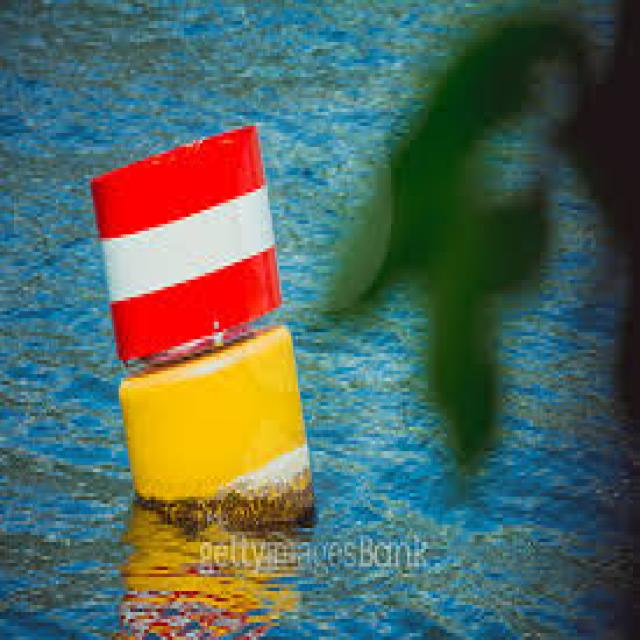Buoy: (81, 104, 328, 556)
